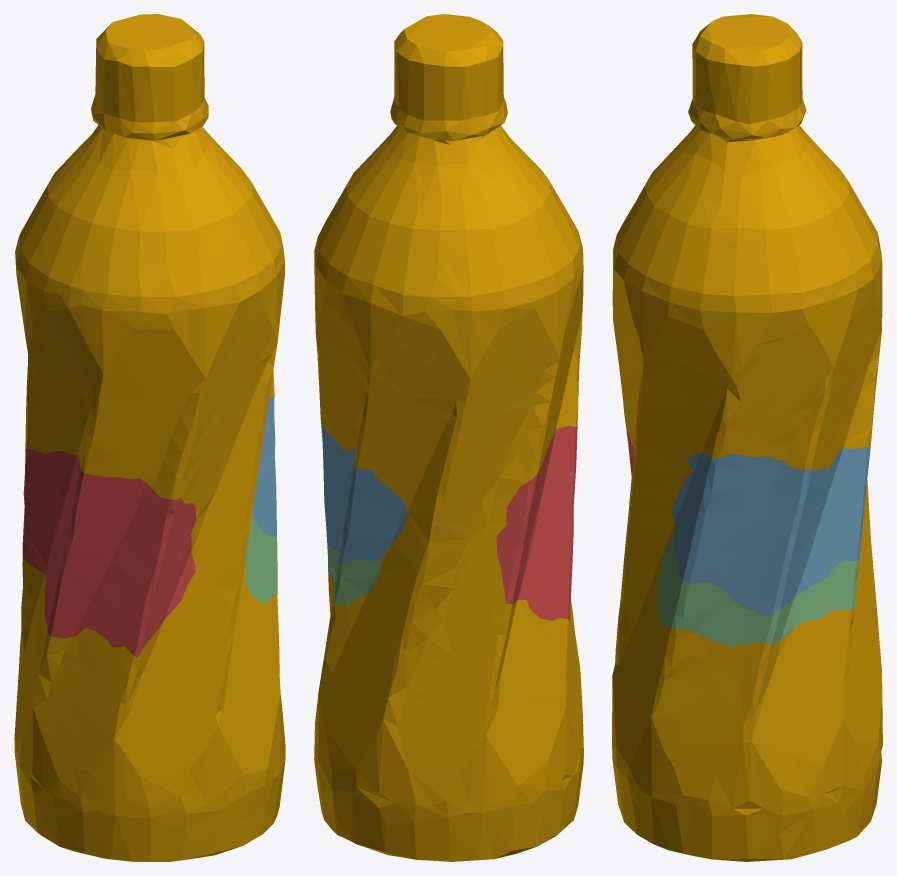
The model's file is mode_9_4pcs.glb.
3 renders of one model, left to right at view 1: azimuth 30°, elevation 25°; view 2: azimuth 150°, elevation 25°; view 3: azimuth 270°, elevation 25°, orthographic.
Parts seen in each view (by area): view 1: piece_0.obj, piece_1.obj, piece_2.obj, piece_3.obj; view 2: piece_0.obj, piece_1.obj, piece_2.obj, piece_3.obj; view 3: piece_0.obj, piece_2.obj, piece_3.obj.
Part boxes in pixels (x1=…): piece_0.obj: x1=14, y1=14, x2=285, y2=861; piece_1.obj: x1=22, y1=449, x2=195, y2=656; piece_2.obj: x1=252, y1=396, x2=276, y2=535; piece_3.obj: x1=245, y1=516, x2=277, y2=603; piece_0.obj: x1=314, y1=14, x2=583, y2=861; piece_1.obj: x1=496, y1=425, x2=577, y2=620; piece_2.obj: x1=321, y1=423, x2=407, y2=564; piece_3.obj: x1=327, y1=544, x2=381, y2=605; piece_0.obj: x1=612, y1=14, x2=882, y2=861; piece_2.obj: x1=671, y1=446, x2=870, y2=617; piece_3.obj: x1=656, y1=534, x2=859, y2=647.
Bounding box in the file's own units: 0.3156 × 1 × 0.3155.
